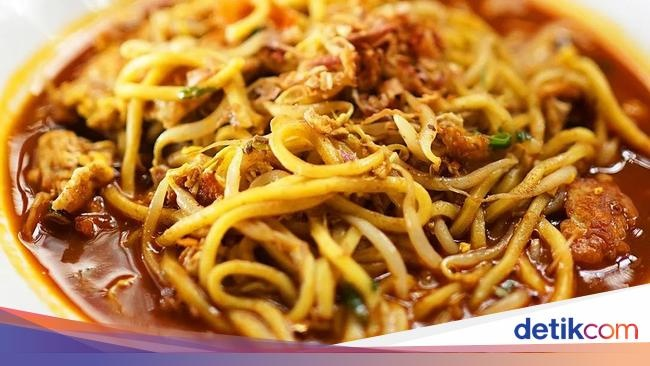mie_aceh: (4, 3, 650, 332)
